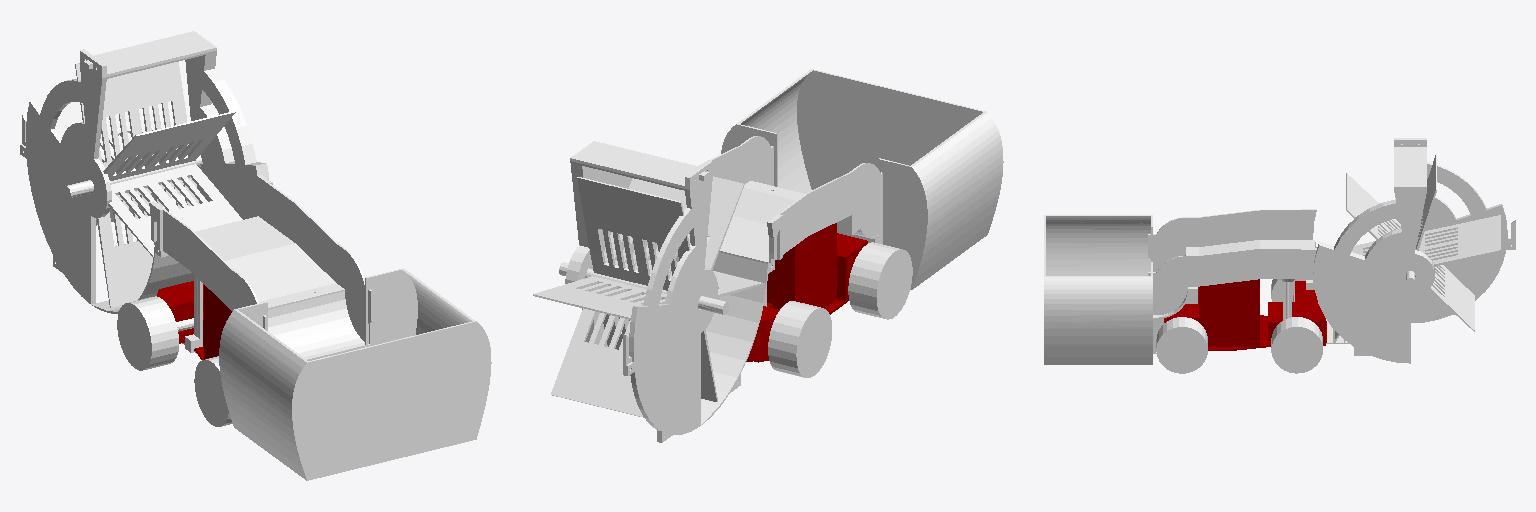
The robot description file, URDF, robot "pick_ball_mbot":
<?xml version="1.0" encoding="utf-8"?>
<!-- This URDF was automatically created by SolidWorks to URDF Exporter! Originally created by [author] ([email redacted]) 
     Commit Version: 1.5.1-0-g916b5db  Build Version: 1.5.7152.31018
     For more information, please see http://wiki.ros.org/sw_urdf_exporter -->
<robot
  name="pick_ball_mbot">
  <link
    name="base_link">
    <inertial>
      <origin
        xyz="-0.0073430681844793 -0.0240899963415031 0.216409188578357"
        rpy="0 0 0" />
      <mass
        value="1.05139109376071" />
      <inertia
        ixx="0.00348499733987661"
        ixy="5.59664608948403E-21"
        ixz="-8.26305565804843E-20"
        iyy="0.00365982960162949"
        iyz="-0.000149638202350733"
        izz="0.00152216475016813" />
    </inertial>
    <visual>
      <origin
        xyz="0 0 0"
        rpy="0 0 0" />
      <geometry>
        <mesh
          filename="package://pick_ball_mbot/meshes/base_link.STL" />
      </geometry>
      <material
        name="">
        <color
          rgba="0.686274509803922 0 0 1" />
      </material>
    </visual>
    <collision>
      <origin
        xyz="0 0 0"
        rpy="0 0 0" />
      <geometry>
        <mesh
          filename="package://pick_ball_mbot/meshes/base_link.STL" />
      </geometry>
    </collision>
  </link>
  <link
    name="left_cover">
    <inertial>
      <origin
        xyz="0.0339621470957772 0.172876722995914 0.102900925287299"
        rpy="0 0 0" />
      <mass
        value="0.348968668389308" />
      <inertia
        ixx="0.00220864018472111"
        ixy="-9.94750925639056E-05"
        ixz="-0.000119883170893649"
        iyy="0.00198390619787086"
        iyz="-0.000357322467893291"
        izz="0.000935622380947324" />
    </inertial>
    <visual>
      <origin
        xyz="0 0 0"
        rpy="0 0 0" />
      <geometry>
        <mesh
          filename="package://pick_ball_mbot/meshes/left_cover.STL" />
      </geometry>
      <material
        name="">
        <color
          rgba="1 1 1 1" />
      </material>
    </visual>
    <collision>
      <origin
        xyz="0 0 0"
        rpy="0 0 0" />
      <geometry>
        <mesh
          filename="package://pick_ball_mbot/meshes/left_cover.STL" />
      </geometry>
    </collision>
  </link>
  <joint
    name="left_cover_joint"
    type="fixed">
    <origin
      xyz="-0.00070327 -0.2264 -0.072965"
      rpy="0 0 0" />
    <parent
      link="base_link" />
    <child
      link="left_cover" />
    <axis
      xyz="0 0 0" />
  </joint>
  <link
    name="right_cover">
    <inertial>
      <origin
        xyz="-0.00573994781975207 -0.0426051719539319 0.00250436597775372"
        rpy="0 0 0" />
      <mass
        value="0.109962415450793" />
      <inertia
        ixx="0.00015179667895952"
        ixy="-5.32196527116854E-05"
        ixz="-3.8888262975556E-09"
        iyy="0.000384457111161325"
        iyz="4.02644466212917E-08"
        izz="0.000535795937644261" />
    </inertial>
    <visual>
      <origin
        xyz="0 0 0"
        rpy="0 0 0" />
      <geometry>
        <mesh
          filename="package://pick_ball_mbot/meshes/right_cover.STL" />
      </geometry>
      <material
        name="">
        <color
          rgba="1 1 1 1" />
      </material>
    </visual>
    <collision>
      <origin
        xyz="0 0 0"
        rpy="0 0 0" />
      <geometry>
        <mesh
          filename="package://pick_ball_mbot/meshes/right_cover.STL" />
      </geometry>
    </collision>
  </link>
  <joint
    name="right_cover_joint"
    type="fixed">
    <origin
      xyz="-0.065843 -0.0023183 0.047035"
      rpy="3.1416 -1.5708 0" />
    <parent
      link="base_link" />
    <child
      link="right_cover" />
    <axis
      xyz="0 0 0" />
  </joint>
  <link
    name="rear_collector">
    <inertial>
      <origin
        xyz="-0.000326437311550335 -0.00719503141930298 0.0162130574516879"
        rpy="0 0 0" />
      <mass
        value="0.0869561531734891" />
      <inertia
        ixx="8.91551923460167E-05"
        ixy="9.59115568056101E-07"
        ixz="8.3030805905887E-07"
        iyy="0.000171888387652561"
        iyz="-3.6277346981146E-05"
        izz="0.000196700391316864" />
    </inertial>
    <visual>
      <origin
        xyz="0 0 0"
        rpy="0 0 0" />
      <geometry>
        <mesh
          filename="package://pick_ball_mbot/meshes/rear_collector.STL" />
      </geometry>
      <material
        name="">
        <color
          rgba="1 1 1 1" />
      </material>
    </visual>
    <collision>
      <origin
        xyz="0 0 0"
        rpy="0 0 0" />
      <geometry>
        <mesh
          filename="package://pick_ball_mbot/meshes/rear_collector.STL" />
      </geometry>
    </collision>
  </link>
  <joint
    name="rear_collector_joint"
    type="fixed">
    <origin
      xyz="-0.0073431 -0.3164 -0.0089653"
      rpy="1.5708 0 3.1416" />
    <parent
      link="base_link" />
    <child
      link="rear_collector" />
    <axis
      xyz="0 0 0" />
  </joint>
  <link
    name="middle_transport">
    <inertial>
      <origin
        xyz="0.000317501851703324 -0.00221740273164433 0.0657117561421356"
        rpy="0 0 0" />
      <mass
        value="0.0942491276999206" />
      <inertia
        ixx="0.000413364094335781"
        ixy="5.42603682492851E-08"
        ixz="1.96250347724689E-06"
        iyy="0.000558336345208193"
        iyz="7.0563176338099E-05"
        izz="0.000226004346785157" />
    </inertial>
    <visual>
      <origin
        xyz="0 0 0"
        rpy="0 0 0" />
      <geometry>
        <mesh
          filename="package://pick_ball_mbot/meshes/middle_transport.STL" />
      </geometry>
      <material
        name="">
        <color
          rgba="1 1 1 1" />
      </material>
    </visual>
    <collision>
      <origin
        xyz="0 0 0"
        rpy="0 0 0" />
      <geometry>
        <mesh
          filename="package://pick_ball_mbot/meshes/middle_transport.STL" />
      </geometry>
    </collision>
  </link>
  <joint
    name="middle_transport_joint"
    type="fixed">
    <origin
      xyz="-0.010843 -0.15415 0.037201"
      rpy="1.5708 0 0" />
    <parent
      link="base_link" />
    <child
      link="middle_transport" />
    <axis
      xyz="0 0 0" />
  </joint>
  <link
    name="collector">
    <inertial>
      <origin
        xyz="-0.0176597255220184 -0.0449868031021791 0.000267587009012863"
        rpy="0 0 0" />
      <mass
        value="0.192616334199706" />
      <inertia
        ixx="0.00137500118894815"
        ixy="3.73221086735074E-05"
        ixz="3.60601238693752E-06"
        iyy="0.00158544226406398"
        iyz="2.1181795998119E-06"
        izz="0.000798620814045366" />
    </inertial>
    <visual>
      <origin
        xyz="0 0 0"
        rpy="0 0 0" />
      <geometry>
        <mesh
          filename="package://pick_ball_mbot/meshes/collector.STL" />
      </geometry>
      <material
        name="">
        <color
          rgba="1 1 1 1" />
      </material>
    </visual>
    <collision>
      <origin
        xyz="0 0 0"
        rpy="0 0 0" />
      <geometry>
        <mesh
          filename="package://pick_ball_mbot/meshes/collector.STL" />
      </geometry>
    </collision>
  </link>
  <joint
    name="collector_joint"
    type="fixed">
    <origin
      xyz="-0.0073431 -0.4104 -0.061965"
      rpy="-1.5708 0 -1.5708" />
    <parent
      link="base_link" />
    <child
      link="collector" />
    <axis
      xyz="0 0 0" />
  </joint>
  <link
    name="right_support_rod">
    <inertial>
      <origin
        xyz="-0.00137647829361359 0.0385500804376881 0"
        rpy="0 0 0" />
      <mass
        value="0.00511240249563707" />
      <inertia
        ixx="4.56403013951615E-06"
        ixy="-2.51362154296087E-07"
        ixz="2.12244832904835E-21"
        iyy="1.11745762780574E-07"
        iyz="8.80235687902266E-23"
        izz="4.55443005833591E-06" />
    </inertial>
    <visual>
      <origin
        xyz="0 0 0"
        rpy="0 0 0" />
      <geometry>
        <mesh
          filename="package://pick_ball_mbot/meshes/right_support_rod.STL" />
      </geometry>
      <material
        name="">
        <color
          rgba="1 1 1 1" />
      </material>
    </visual>
    <collision>
      <origin
        xyz="0 0 0"
        rpy="0 0 0" />
      <geometry>
        <mesh
          filename="package://pick_ball_mbot/meshes/right_support_rod.STL" />
      </geometry>
    </collision>
  </link>
  <joint
    name="right_support_rod_joint"
    type="fixed">
    <origin
      xyz="-0.0392756380929201 -0.154282545794808 -0.0579653445088367"
      rpy="1.5707963267949 0 0" />
    <parent
      link="base_link" />
    <child
      link="right_support_rod" />
    <axis
      xyz="0 0 0" />
  </joint>
  <link
    name="left_support_rod">
    <inertial>
      <origin
        xyz="-0.00137647829365084 0.0385500804376881 0"
        rpy="0 0 0" />
      <mass
        value="0.00511240249563706" />
      <inertia
        ixx="4.56403013951614E-06"
        ixy="-2.51362154299168E-07"
        ixz="-1.10897694624677E-18"
        iyy="1.11745762781719E-07"
        iyz="1.85660035477067E-21"
        izz="4.55443005833705E-06" />
    </inertial>
    <visual>
      <origin
        xyz="0 0 0"
        rpy="0 0 0" />
      <geometry>
        <mesh
          filename="package://pick_ball_mbot/meshes/left_support_rod.STL" />
      </geometry>
      <material
        name="">
        <color
          rgba="1 1 1 1" />
      </material>
    </visual>
    <collision>
      <origin
        xyz="0 0 0"
        rpy="0 0 0" />
      <geometry>
        <mesh
          filename="package://pick_ball_mbot/meshes/left_support_rod.STL" />
      </geometry>
    </collision>
  </link>
  <joint
    name="left_support_rod_joint"
    type="fixed">
    <origin
      xyz="0.024614 -0.15428 -0.057965"
      rpy="1.5708 0 3.1416" />
    <parent
      link="base_link" />
    <child
      link="left_support_rod" />
    <axis
      xyz="0 0 0" />
  </joint>
  <link
    name="front_wheel">
    <inertial>
      <origin
        xyz="-6.93889390390723E-18 0 -0.00734306818449355"
        rpy="0 0 0" />
      <mass
        value="0.196638567373492" />
      <inertia
        ixx="0.00122441738983552"
        ixy="-1.35525271560688E-20"
        ixz="-2.73918548789853E-20"
        iyy="0.00122441738983552"
        iyz="1.53119568483981E-19"
        izz="9.56574247977301E-05" />
    </inertial>
    <visual>
      <origin
        xyz="0 0 0"
        rpy="0 0 0" />
      <geometry>
        <mesh
          filename="package://pick_ball_mbot/meshes/front_wheel.STL" />
      </geometry>
      <material
        name="">
        <color
          rgba="1 1 1 1" />
      </material>
    </visual>
    <collision>
      <origin
        xyz="0 0 0"
        rpy="0 0 0" />
      <geometry>
        <mesh
          filename="package://pick_ball_mbot/meshes/front_wheel.STL" />
      </geometry>
    </collision>
  </link>
  <joint
    name="front_wheel_joint"
    type="continuous">
    <origin
      xyz="0 -0.1424 -0.040965"
      rpy="1.5708 1.3794 1.5708" />
    <parent
      link="base_link" />
    <child
      link="front_wheel" />
    <axis
      xyz="0 0 1" />
  </joint>
  <link
    name="right_wheel">
    <inertial>
      <origin
        xyz="-1.11022302462516E-16 -1.40859546249317E-15 -0.00734306818449256"
        rpy="0 0 0" />
      <mass
        value="0.196638567373492" />
      <inertia
        ixx="0.00122441738983552"
        ixy="-2.57298168502123E-37"
        ixz="-4.18959262788251E-18"
        iyy="0.00122441738983552"
        iyz="-2.9387358770557E-36"
        izz="9.56574247977301E-05" />
    </inertial>
    <visual>
      <origin
        xyz="0 0 0"
        rpy="0 0 0" />
      <geometry>
        <mesh
          filename="package://pick_ball_mbot/meshes/right_wheel.STL" />
      </geometry>
      <material
        name="">
        <color
          rgba="1 1 1 1" />
      </material>
    </visual>
    <collision>
      <origin
        xyz="0 0 0"
        rpy="0 0 0" />
      <geometry>
        <mesh
          filename="package://pick_ball_mbot/meshes/right_wheel.STL" />
      </geometry>
    </collision>
  </link>
  <joint
    name="right_wheel_joint"
    type="continuous">
    <origin
      xyz="0 -0.28437 -0.041059"
      rpy="1.5708 0 1.5708" />
    <parent
      link="base_link" />
    <child
      link="right_wheel" />
    <axis
      xyz="0 0 1" />
  </joint>
  <link
    name="paddle">
    <inertial>
      <origin
        xyz="0.010437 1.1604E-13 -6.4149E-13"
        rpy="0 0 0" />
      <mass
        value="0.16555" />
      <inertia
        ixx="0.00063183"
        ixy="-1.3459E-16"
        ixz="-4.7094E-15"
        iyy="0.00050637"
        iyz="2.4414E-13"
        izz="0.00050637" />
    </inertial>
    <visual>
      <origin
        xyz="0 0 0"
        rpy="0 0 0" />
      <geometry>
        <mesh
          filename="package://pick_ball_mbot/meshes/paddle.STL" />
      </geometry>
      <material
        name="">
        <color
          rgba="1 1 1 1" />
      </material>
    </visual>
    <collision>
      <origin
        xyz="0 0 0"
        rpy="0 0 0" />
      <geometry>
        <mesh
          filename="package://pick_ball_mbot/meshes/paddle.STL" />
      </geometry>
    </collision>
  </link>
  <joint
    name="paddle_joint"
    type="continuous">
    <origin
      xyz="0 -0.0023183 0.047035"
      rpy="-2.3269 0 3.1416" />
    <parent
      link="base_link" />
    <child
      link="paddle" />
    <axis
      xyz="1 0 0" />
  </joint>
</robot>

--- Render facts (derived) ---
3 views of the same robot in one strip: view 1: azimuth 30°, elevation 25°; view 2: azimuth 150°, elevation 25°; view 3: azimuth 270°, elevation 25° (orthographic).
Model pick_ball_mbot with 11 links and 10 joints (3 continuous, 7 fixed), rooted at base_link, posed all joints at 0.
Visible links, largest first — view 1: collector, middle_transport, paddle, right_cover, left_cover, front_wheel, base_link, right_wheel, right_support_rod; view 2: collector, paddle, right_cover, middle_transport, left_cover, base_link, front_wheel, right_wheel, rear_collector; view 3: collector, left_cover, middle_transport, paddle, base_link, right_cover, front_wheel, right_wheel, rear_collector.
Link boxes in pixels (box(x1,y1,x2,y2)): collector: box(219, 268, 491, 480); middle_transport: box(149, 175, 372, 358); paddle: box(55, 62, 242, 307); right_cover: box(20, 51, 111, 304); left_cover: box(80, 31, 268, 353); front_wheel: box(117, 296, 193, 370); base_link: box(157, 281, 231, 359); right_wheel: box(194, 356, 232, 426); right_support_rod: box(185, 275, 202, 352); collector: box(721, 69, 1003, 289); paddle: box(533, 176, 762, 417); right_cover: box(623, 169, 717, 442); middle_transport: box(688, 136, 882, 263); left_cover: box(565, 141, 774, 425); base_link: box(746, 223, 867, 362); front_wheel: box(768, 301, 831, 377); right_wheel: box(848, 242, 912, 319); rear_collector: box(837, 210, 882, 243); collector: box(1044, 215, 1152, 364); left_cover: box(1306, 138, 1434, 363); middle_transport: box(1148, 209, 1316, 314); paddle: box(1346, 153, 1500, 331); base_link: box(1164, 279, 1326, 350); right_cover: box(1394, 140, 1515, 322); front_wheel: box(1271, 279, 1322, 373); right_wheel: box(1156, 317, 1207, 373); rear_collector: box(1153, 287, 1197, 353).
Size in the robot's own frame: 0.212 by 0.5817 by 0.25 metres.
Meshes: 11 distinct files referenced, 11 mesh visuals loaded (11 binary STL).